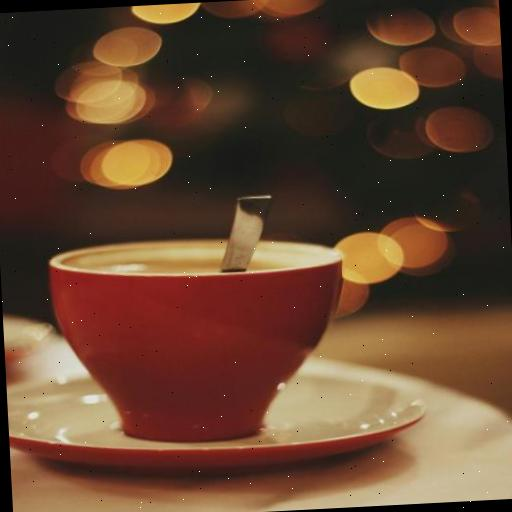cup: (48, 230, 353, 450)
